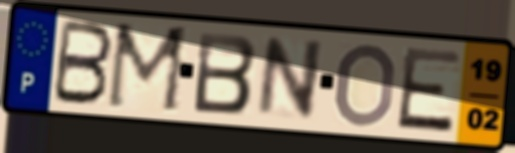B: (49, 17, 117, 108), (190, 29, 259, 117)
E: (393, 45, 464, 136)
M: (103, 20, 193, 117)
N: (253, 36, 327, 123)
O: (331, 40, 399, 130)
